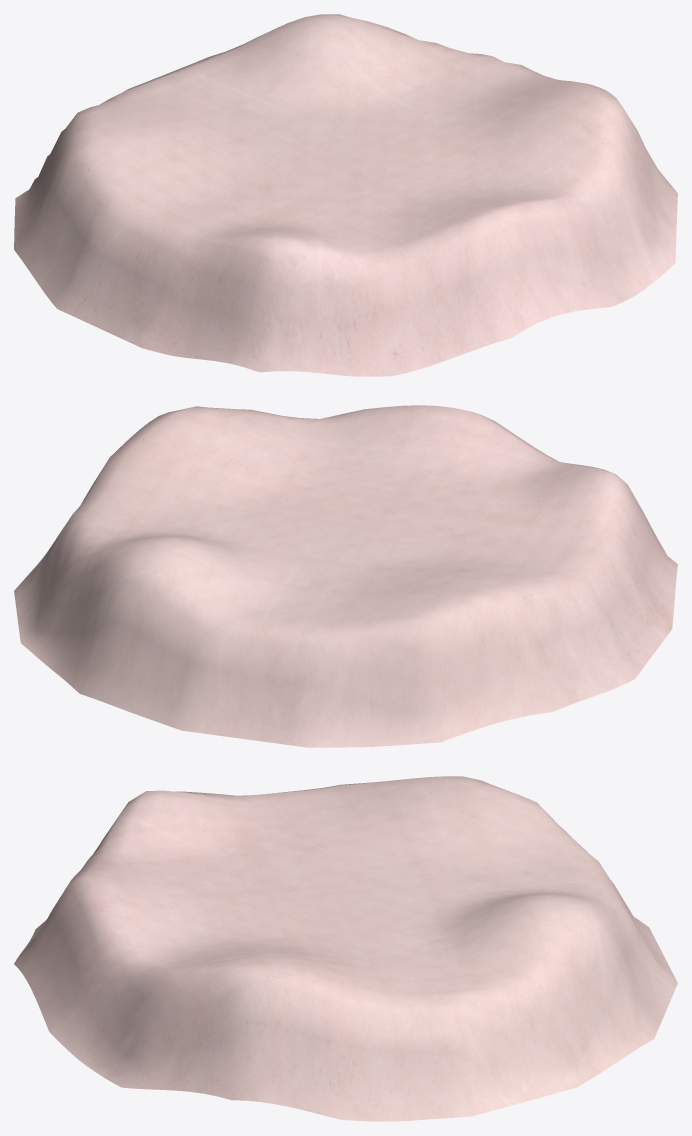
The model's file is ground.obj.
3 views of the same model, one above another, from view 1: azimuth 30°, elevation 25°; view 2: azimuth 150°, elevation 25°; view 3: azimuth 270°, elevation 25° (orthographic).
Visible parts, largest first — view 1: ground_Plane.001; view 2: ground_Plane.001; view 3: ground_Plane.001.
Part boxes in pixels (x1=…): ground_Plane.001: x1=14, y1=14, x2=677, y2=376; ground_Plane.001: x1=14, y1=405, x2=677, y2=747; ground_Plane.001: x1=14, y1=776, x2=677, y2=1121.
Size of the model in its own units: 30.93 by 6.13 by 30.47.
1 material, 1 textured.
